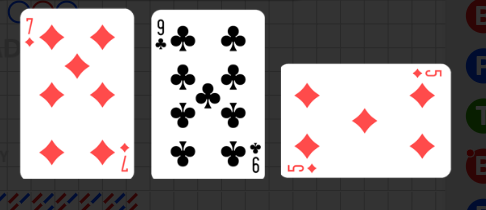7D: (23, 16, 35, 49)
9C: (248, 140, 262, 175)
9D: (411, 67, 443, 79)
